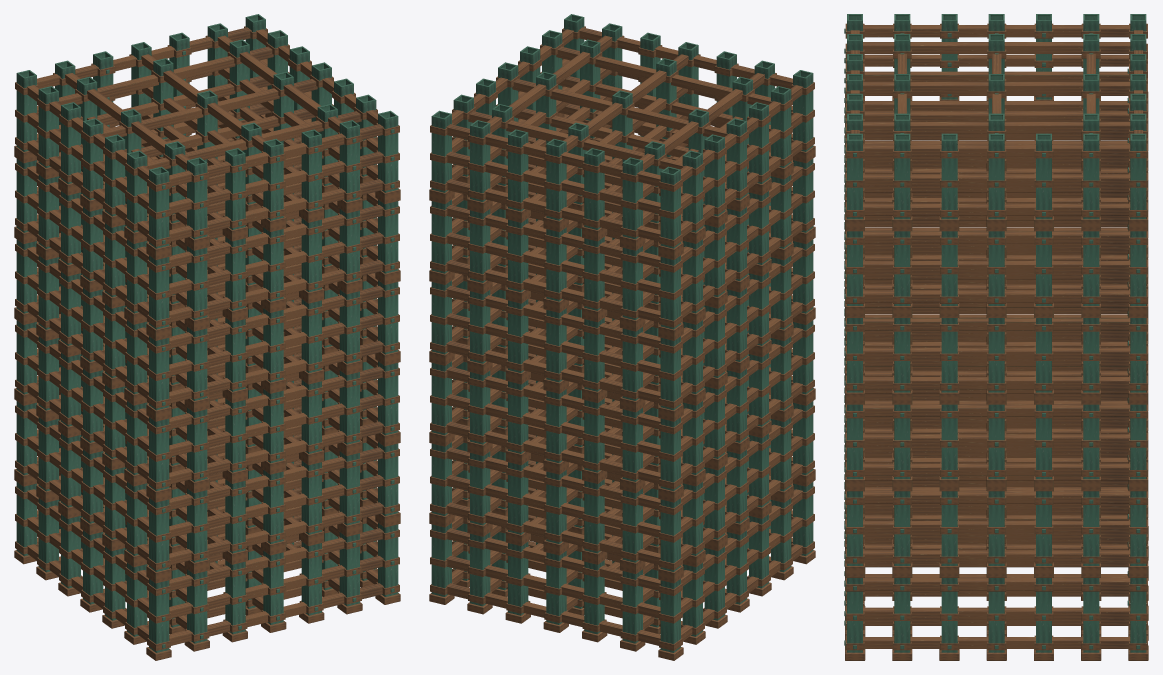
3 views of the same model, side by side, from view 1: azimuth 30°, elevation 25°; view 2: azimuth 150°, elevation 25°; view 3: azimuth 270°, elevation 25° (orthographic). The views are drawn at different scales.
Parts seen in each view (by area): view 1: Tier 5 internal tie 0-0-0-0.84, Tier 5 internal tie 0-0.56-0-0.84, Tier 5 internal tie 0--0.56-0-0.84, Tier 2 tie 0-0-0.5, Tier 5 tie 0-0-0.84, Tier 2 tie 0-0-0.16, Tier 5 tie 0-0-0.16, Tier 5 tie 0-0-0.5, Tier 0 tie 0-0-0.16, Tier 1 tie 0-0-0.16, Tier 3 tie 0-0-0.5, Tier 4 tie 0-0-0.16 (+126 smaller); view 2: Tier 5 internal tie 0--0.56-0-0.84, Tier 5 internal tie 0-0-0-0.84, Tier 5 internal tie 0-0.56-0-0.84, Tier 2 tie 2-0-0.5, Tier 5 tie 2-0-0.84, Tier 2 tie 2-0-0.16, Tier 5 tie 2-0-0.16, Tier 5 tie 2-0-0.5, Tier 0 tie 2-0-0.16, Tier 1 tie 2-0-0.16, Tier 3 tie 2-0-0.5, Tier 4 tie 2-0-0.16 (+126 smaller); view 3: Tier 5 internal tie 1--0.56-0-0.84, Tier 5 internal tie 1-0-0-0.84, Tier 5 internal tie 1-0.56-0-0.84, Tier 5 internal tie 1-0-0-0.5, Tier 5 internal tie 1--0.56-0-0.5, Tier 5 internal tie 1--0.56-0-0.16, Tier 2 tie 1-0-0.16, Tier 2 tie 1-0-0.84, Tier 3 tie 1-0-0.5, Tier 5 tie 1-0-0.16, Tier 1 tie 1-0-0.84, Tier 4 tie 1-0-0.16 (+106 smaller).
Part boxes in pixels (x1,y1,x2,y2): Tier 5 internal tie 0-0-0-0.84: [103, 79, 317, 136]; Tier 5 internal tie 0-0.56-0-0.84: [59, 46, 273, 104]; Tier 5 internal tie 0--0.56-0-0.84: [147, 111, 361, 169]; Tier 2 tie 0-0-0.5: [169, 394, 383, 456]; Tier 5 tie 0-0-0.84: [169, 124, 383, 186]; Tier 2 tie 0-0-0.16: [169, 421, 383, 483]; Tier 5 tie 0-0-0.16: [169, 179, 383, 241]; Tier 5 tie 0-0-0.5: [169, 151, 383, 213]; Tier 0 tie 0-0-0.16: [169, 583, 383, 645]; Tier 1 tie 0-0-0.16: [169, 502, 383, 564]; Tier 3 tie 0-0-0.5: [169, 313, 383, 375]; Tier 4 tie 0-0-0.16: [169, 260, 383, 322]; Tier 5 internal tie 0--0.56-0-0.84: [556, 46, 770, 104]; Tier 5 internal tie 0-0-0-0.84: [512, 79, 726, 136]; Tier 5 internal tie 0-0.56-0-0.84: [468, 111, 682, 169]; Tier 2 tie 2-0-0.5: [446, 394, 660, 456]; Tier 5 tie 2-0-0.84: [446, 124, 660, 186]; Tier 2 tie 2-0-0.16: [446, 421, 660, 483]; Tier 5 tie 2-0-0.16: [446, 179, 660, 241]; Tier 5 tie 2-0-0.5: [446, 151, 660, 213]; Tier 0 tie 2-0-0.16: [446, 583, 660, 645]; Tier 1 tie 2-0-0.16: [446, 502, 660, 564]; Tier 3 tie 2-0-0.5: [446, 313, 660, 375]; Tier 4 tie 2-0-0.16: [446, 260, 660, 322]; Tier 5 internal tie 1--0.56-0-0.84: [863, 42, 1130, 53]; Tier 5 internal tie 1-0-0-0.84: [863, 82, 1130, 93]; Tier 5 internal tie 1-0.56-0-0.84: [863, 122, 1130, 133]; Tier 5 internal tie 1-0-0-0.5: [863, 111, 1130, 121]; Tier 5 internal tie 1--0.56-0-0.5: [863, 71, 1130, 81]; Tier 5 internal tie 1--0.56-0-0.16: [864, 101, 1128, 111]; Tier 2 tie 1-0-0.16: [863, 463, 1130, 475]; Tier 2 tie 1-0-0.84: [863, 404, 1130, 416]; Tier 3 tie 1-0-0.5: [863, 347, 1130, 359]; Tier 5 tie 1-0-0.16: [863, 203, 1130, 215]; Tier 1 tie 1-0-0.84: [863, 491, 1130, 503]; Tier 4 tie 1-0-0.16: [863, 290, 1130, 302].
Bounding box in the file's own units: 1.8 × 3.4 × 1.8.
2 materials, 2 textured.
